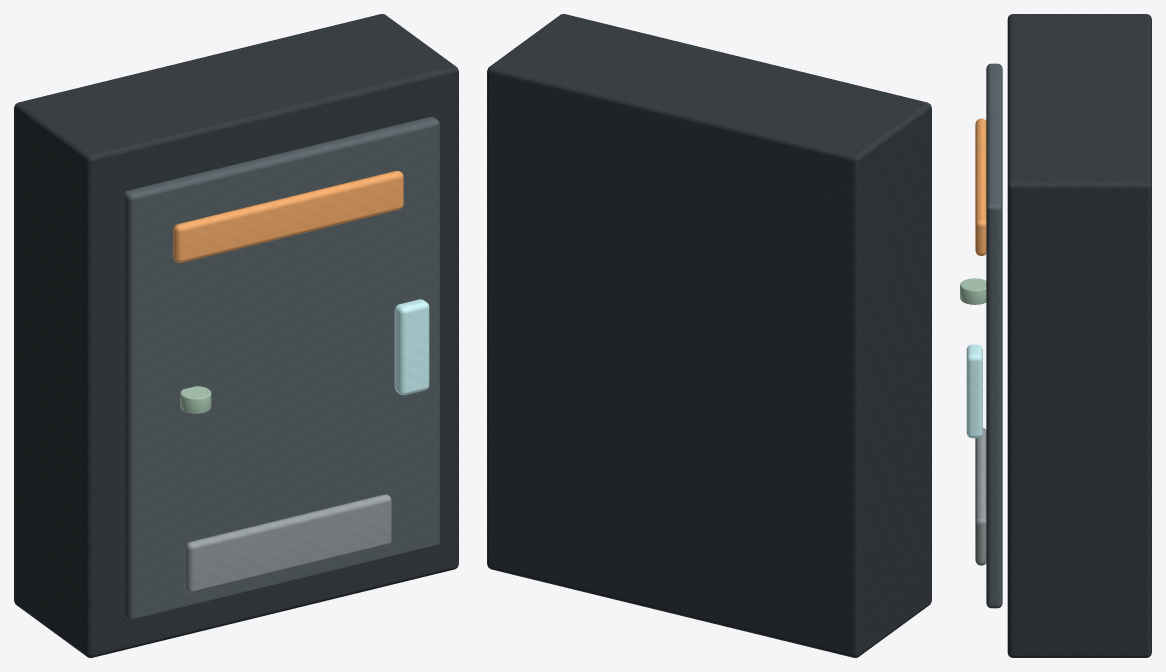
The model's file is WallJunctionBox.glb.
The picture shows the model from 3 angles, left to right: view 1: azimuth 30°, elevation 25°; view 2: azimuth 150°, elevation 25°; view 3: azimuth 270°, elevation 25°; orthographic projection. The views are drawn at different scales.
Parts seen in each view (by area): view 1: WallJunctionBox_Mesh; view 2: WallJunctionBox_Mesh; view 3: WallJunctionBox_Mesh.
Boxes of the visible parts, <box> form: WallJunctionBox_Mesh: <box>14,14,458,657</box>; WallJunctionBox_Mesh: <box>487,14,931,657</box>; WallJunctionBox_Mesh: <box>960,14,1151,657</box>.
Bounding box in the file's own units: 0.62 × 0.8 × 0.2925.
Materials: 6 (6 with a texture image).
